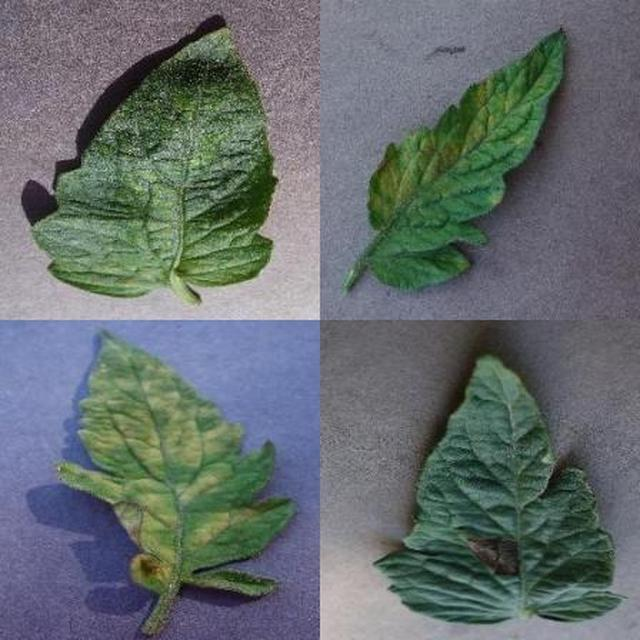Spider Mites Leaf: (217, 228, 640, 640)
